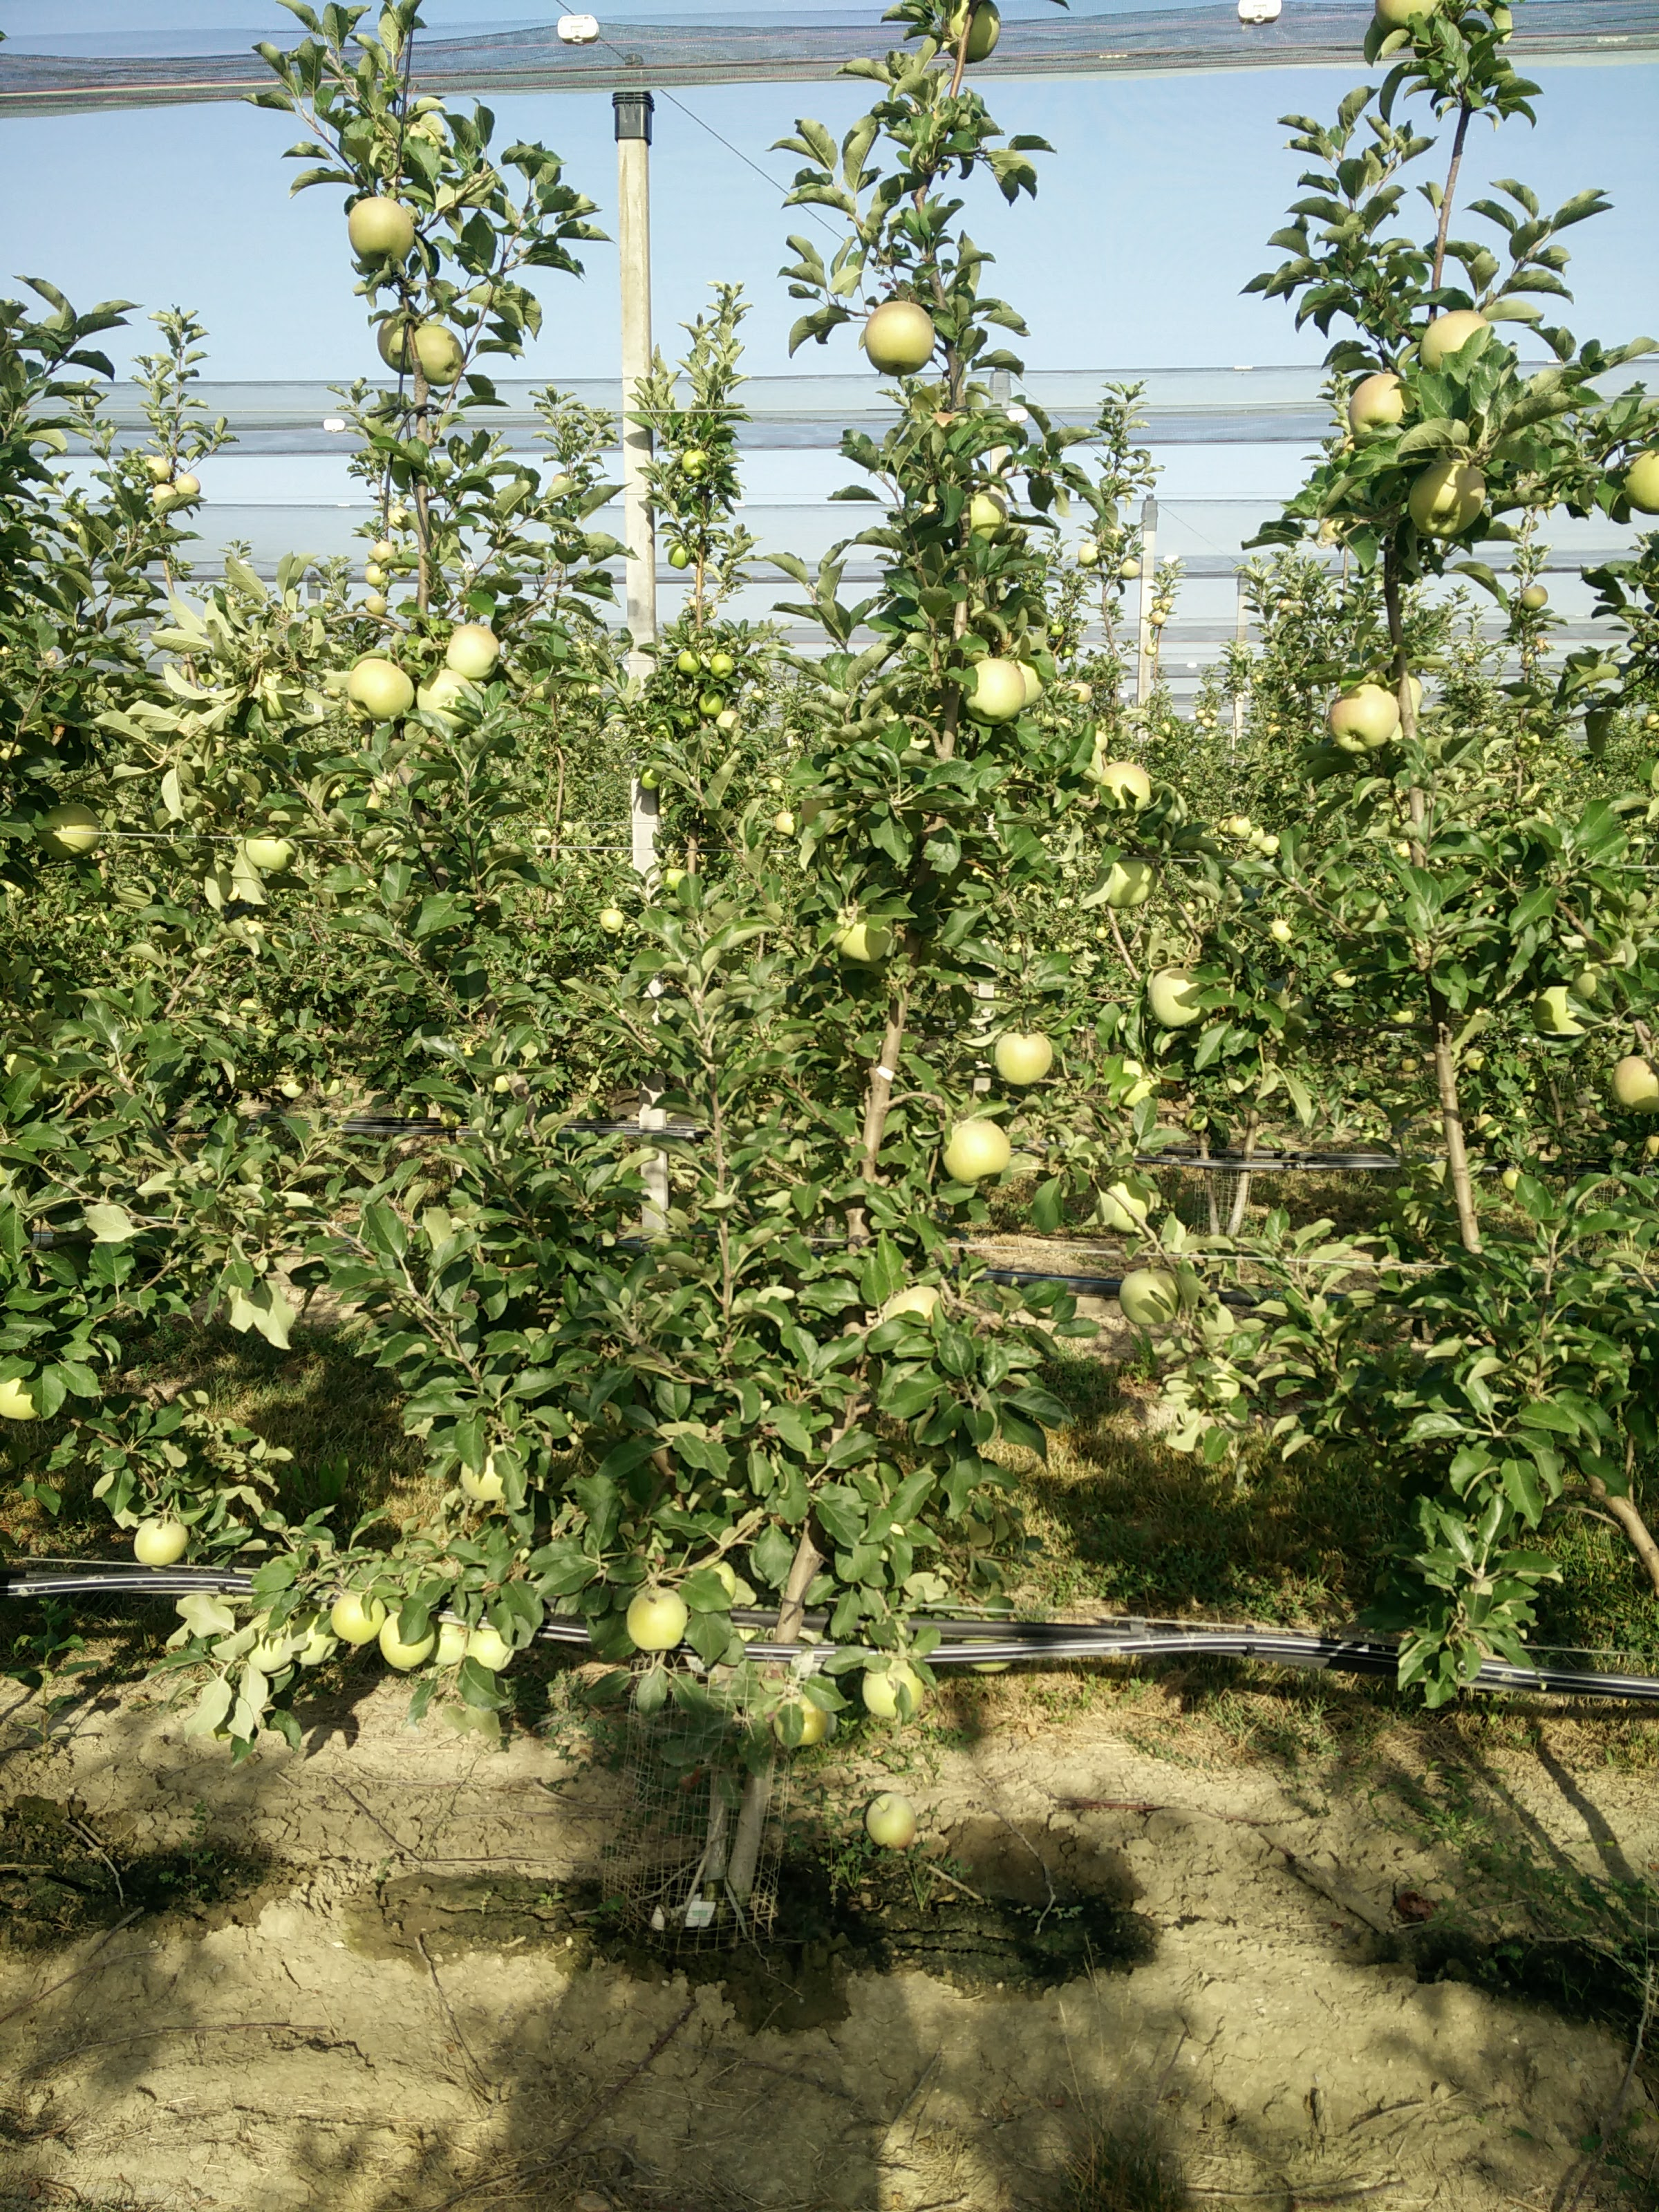apple: (1405, 462, 1488, 542), (859, 299, 937, 378), (340, 654, 415, 731), (1328, 682, 1400, 757), (1412, 309, 1496, 372), (345, 194, 417, 269), (1340, 374, 1421, 438), (938, 1117, 1013, 1184), (858, 1657, 930, 1725), (1114, 1264, 1188, 1330), (1143, 968, 1214, 1035), (439, 617, 512, 682), (855, 1786, 921, 1857), (403, 318, 473, 385), (626, 1583, 693, 1650), (962, 656, 1023, 722), (324, 1584, 391, 1642), (992, 1033, 1057, 1088), (381, 1613, 435, 1674), (132, 1515, 189, 1571), (1612, 1056, 1659, 1101)
